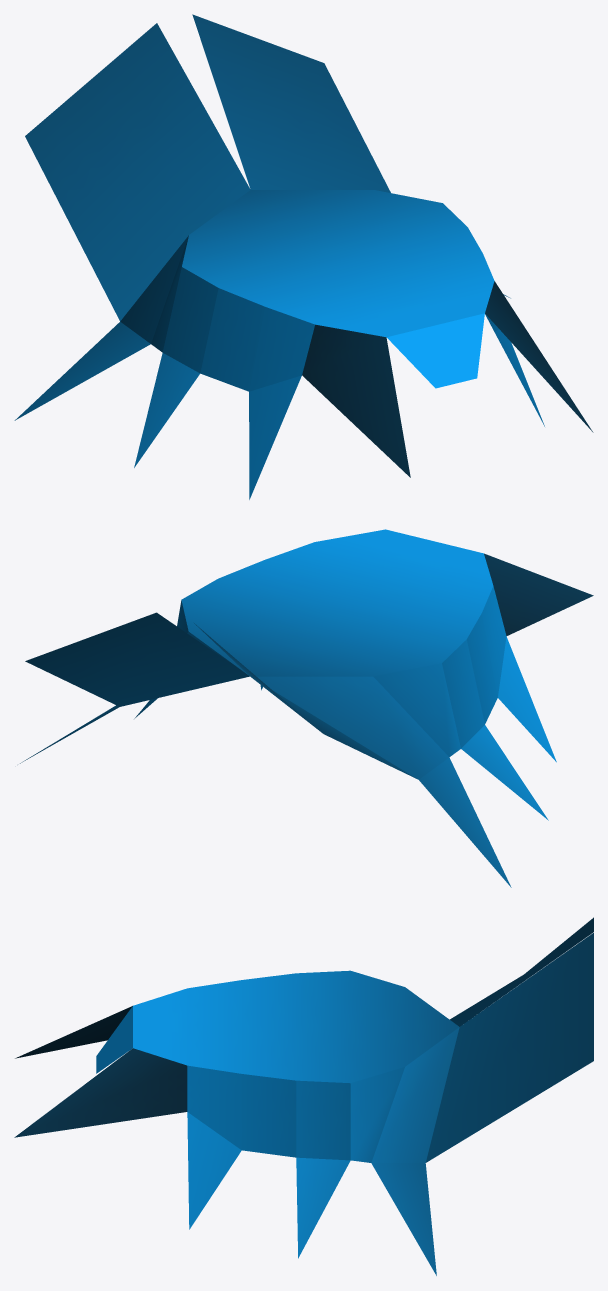
Rendered from paperBug.fbx.
3 renders of one model, top to bottom at view 1: azimuth 30°, elevation 25°; view 2: azimuth 150°, elevation 25°; view 3: azimuth 270°, elevation 25°, orthographic. The views are drawn at different scales.
Parts seen in each view (by area): view 1: pPlane2; view 2: pPlane2; view 3: pPlane2.
Part boxes in pixels (x1=…): pPlane2: x1=14, y1=14, x2=593, y2=499; pPlane2: x1=20, y1=529, x2=593, y2=887; pPlane2: x1=14, y1=917, x2=593, y2=1275.
Size of the model in its own units: 0.3039 by 0.1609 by 0.3464.
